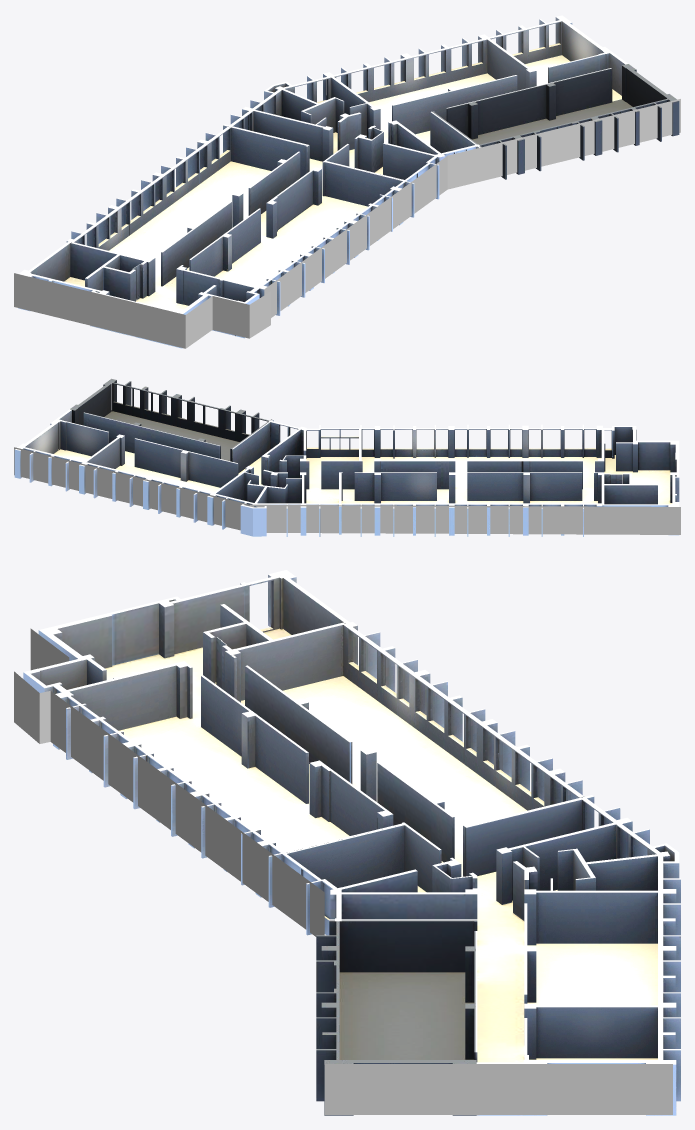
3 views of the same model, one above another, from view 1: azimuth 30°, elevation 25°; view 2: azimuth 150°, elevation 25°; view 3: azimuth 270°, elevation 25° (orthographic). The views are drawn at different scales.
Visible parts, largest first — view 1: hd_3floor_wlm_1, hd_3_zoulang1_2, hd_3floor_room07_9, hd_3floor_room05_7, hd_3floor_room01_3, hd_3floor_room03_5, hd_3floor_room09_11, hd_3floor_room02_4, hd_3floor_room08_10, hd_3floor_room04_6, hd_3floor_room06_8; view 2: hd_3floor_wlm_1, hd_3_zoulang1_2, hd_3floor_room07_9, hd_3floor_room03_5, hd_3floor_room05_7, hd_3floor_room01_3, hd_3floor_room02_4, hd_3floor_room09_11, hd_3floor_room04_6, hd_3floor_room06_8, hd_3floor_room08_10; view 3: hd_3_zoulang1_2, hd_3floor_wlm_1, hd_3floor_room07_9, hd_3floor_room05_7, hd_3floor_room01_3, hd_3floor_room03_5, hd_3floor_room02_4, hd_3floor_room09_11, hd_3floor_room04_6, hd_3floor_room08_10, hd_3floor_room06_8.
Part boxes in pixels (x1,y1,x2,y2): hd_3floor_wlm_1: (14, 99, 680, 348); hd_3_zoulang1_2: (18, 52, 627, 348); hd_3floor_room07_9: (66, 125, 308, 295); hd_3floor_room05_7: (177, 161, 414, 315); hd_3floor_room01_3: (432, 64, 679, 179); hd_3floor_room03_5: (323, 34, 536, 141); hd_3floor_room09_11: (250, 75, 372, 148); hd_3floor_room02_4: (487, 15, 612, 85); hd_3floor_room08_10: (224, 106, 333, 171); hd_3floor_room04_6: (325, 134, 439, 199); hd_3floor_room06_8: (198, 279, 259, 338); hd_3floor_wlm_1: (14, 447, 680, 534); hd_3_zoulang1_2: (57, 409, 679, 535); hd_3floor_room07_9: (340, 472, 603, 536); hd_3floor_room03_5: (79, 434, 253, 525); hd_3floor_room05_7: (360, 424, 604, 489); hd_3floor_room01_3: (70, 378, 272, 461); hd_3floor_room02_4: (14, 419, 118, 491); hd_3floor_room09_11: (213, 469, 302, 536); hd_3floor_room04_6: (300, 425, 360, 489); hd_3floor_room06_8: (602, 426, 637, 472); hd_3floor_room08_10: (300, 472, 340, 536); hd_3_zoulang1_2: (38, 570, 537, 1115); hd_3floor_wlm_1: (14, 628, 672, 1114); hd_3floor_room07_9: (225, 622, 592, 876); hd_3floor_room05_7: (53, 661, 404, 907); hd_3floor_room01_3: (316, 920, 477, 1115); hd_3floor_room03_5: (524, 889, 680, 1059); hd_3floor_room02_4: (523, 1006, 680, 1115); hd_3floor_room09_11: (510, 822, 680, 903); hd_3floor_room04_6: (282, 824, 461, 935); hd_3floor_room08_10: (465, 796, 632, 904); hd_3floor_room06_8: (23, 654, 116, 693).
Bounding box in the file's own units: 8.03 × 0.401 × 4.54.
Materials: 11 (10 with a texture image).
